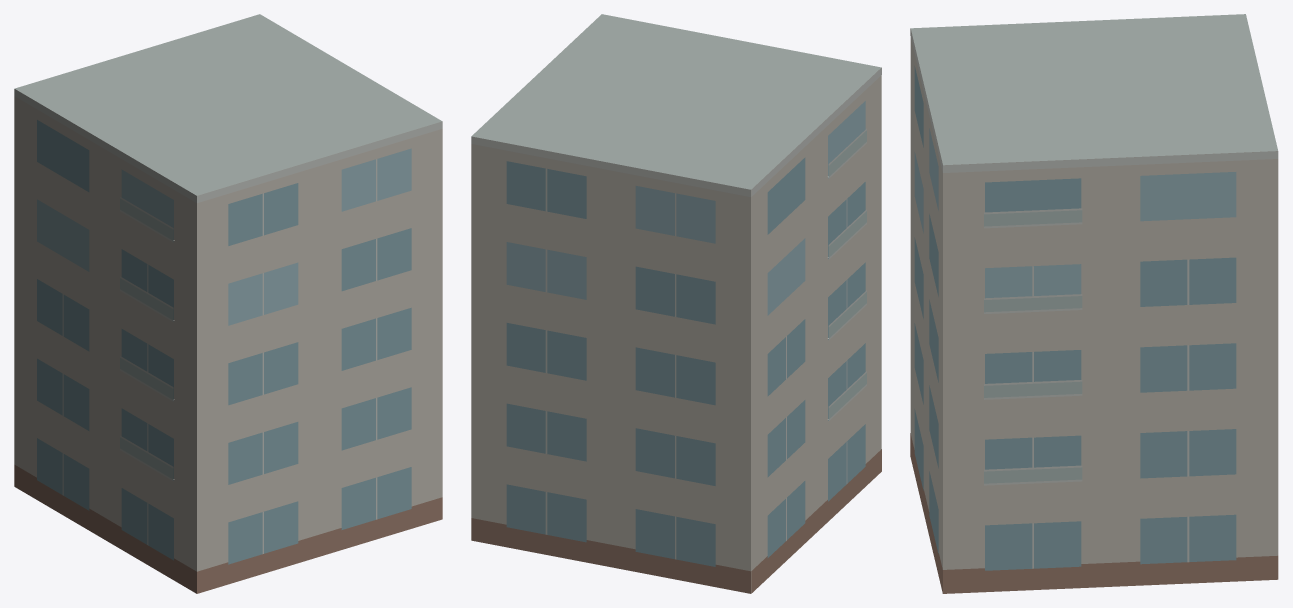
File: survey-upis-32949760.glb
3 renders of one model, left to right at view 1: azimuth 30°, elevation 25°; view 2: azimuth 150°, elevation 25°; view 3: azimuth 270°, elevation 25°, orthographic. The views are drawn at different scales.
Visible parts, largest first — view 1: survey-upis-32949760.tmp; view 2: survey-upis-32949760.tmp; view 3: survey-upis-32949760.tmp.
Part boxes in pixels (bbox=[...]): survey-upis-32949760.tmp: bbox=[14, 14, 442, 593]; survey-upis-32949760.tmp: bbox=[471, 14, 881, 593]; survey-upis-32949760.tmp: bbox=[910, 14, 1278, 593].
Bounding box in the file's own units: 9.99 × 13.2 × 10.27.
